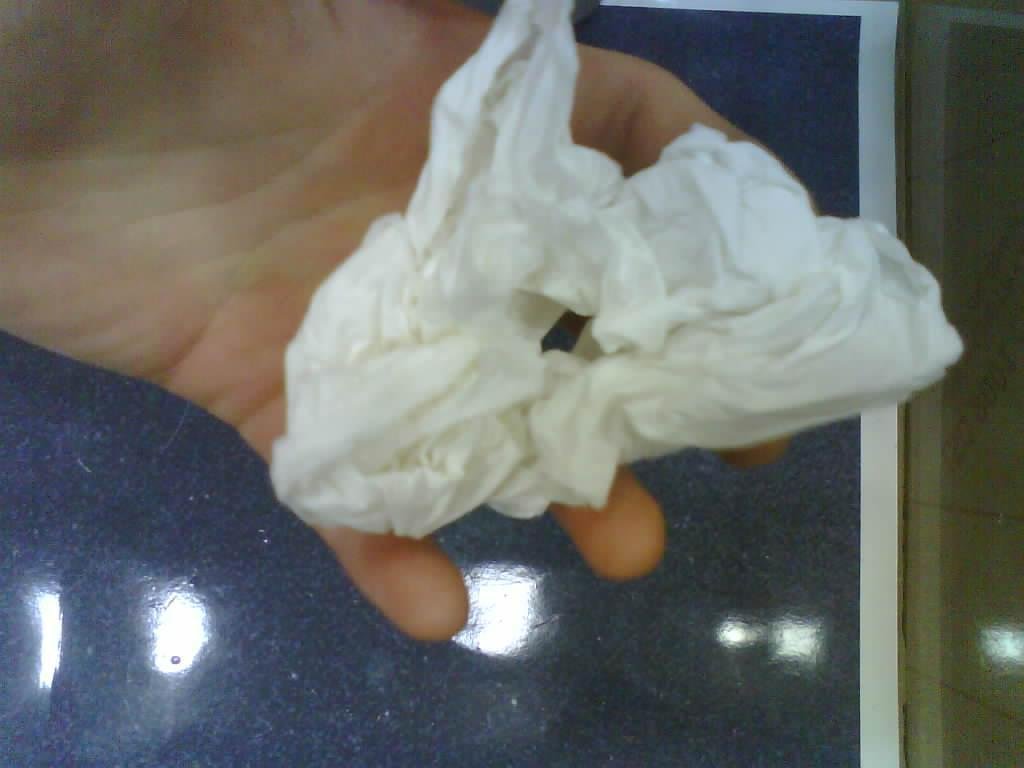paper: (272, 2, 960, 536)
